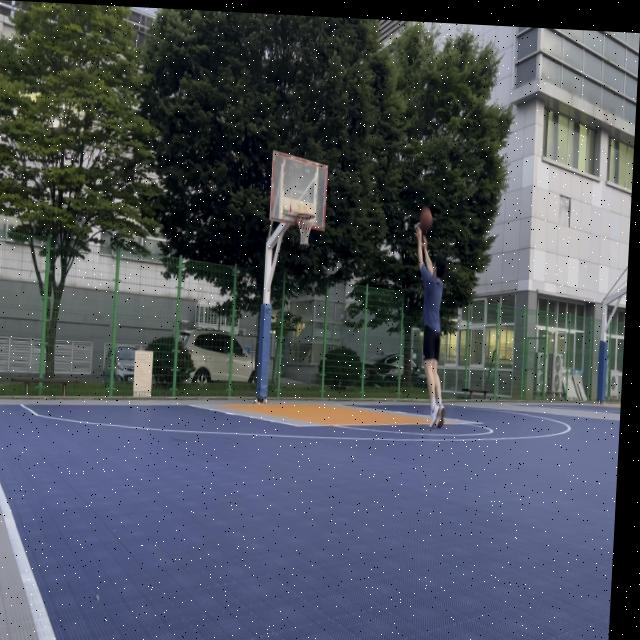basketball: (419, 207, 434, 232)
hoop: (295, 213, 315, 246)
